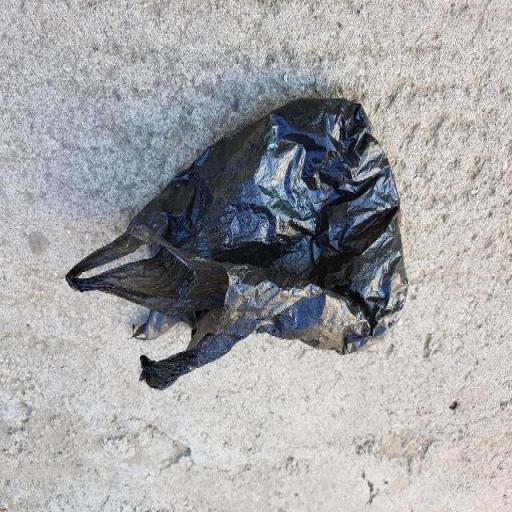plastic-bag: (64, 96, 411, 391)
